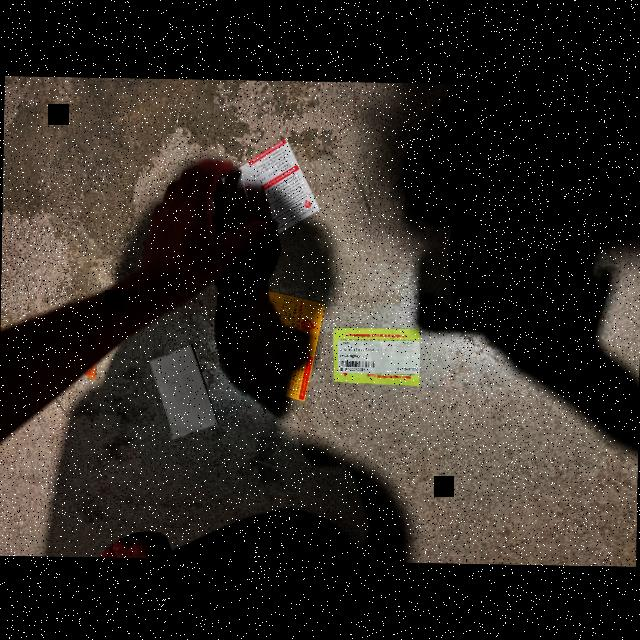scrap_paper: (193, 140, 317, 260), (224, 276, 329, 409), (322, 311, 428, 401), (144, 336, 222, 443)
